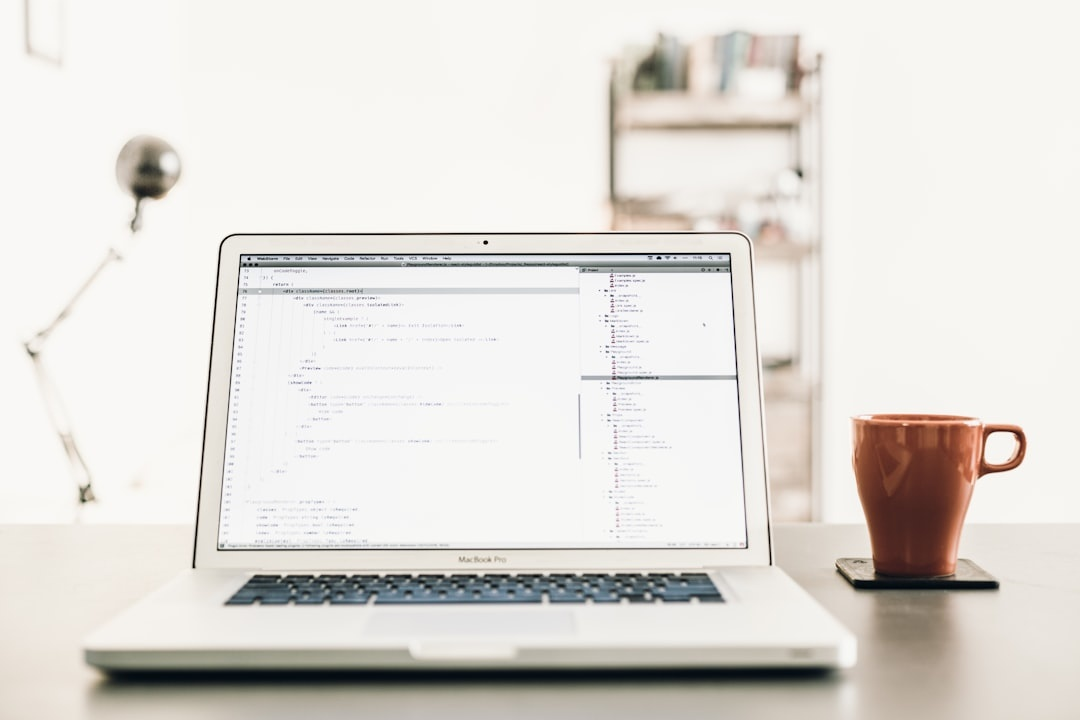laptop: (67, 198, 870, 701)
